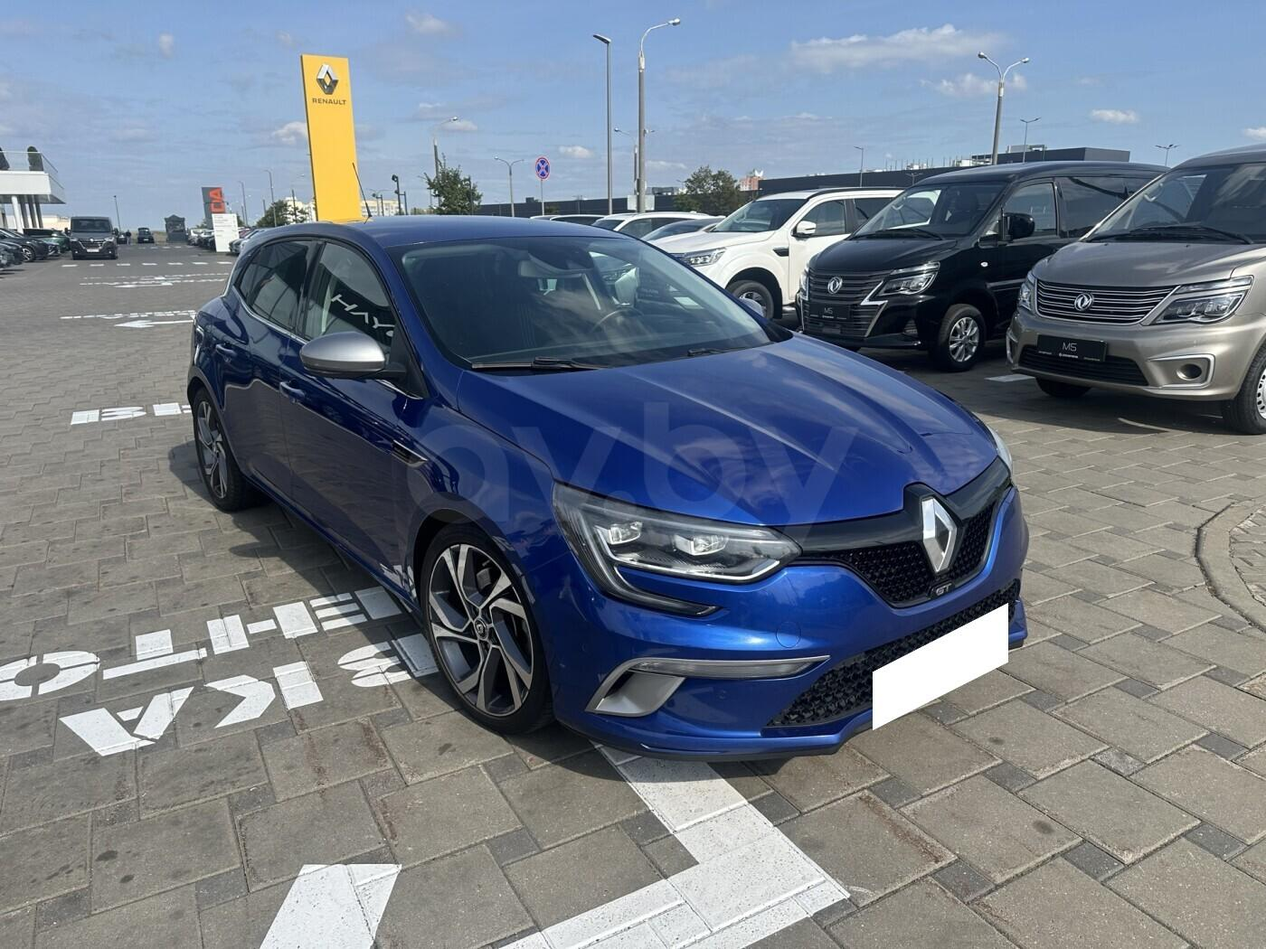Megane_2016-2020: (171, 213, 1050, 757)
